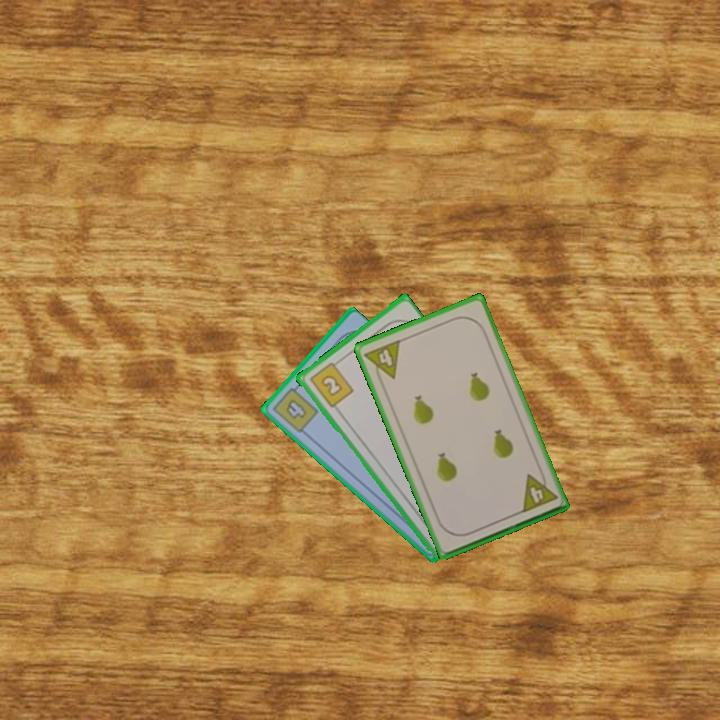2b: (305, 356, 356, 410)
4b: (269, 380, 321, 436)
4p: (361, 336, 403, 386), (518, 467, 560, 516)
